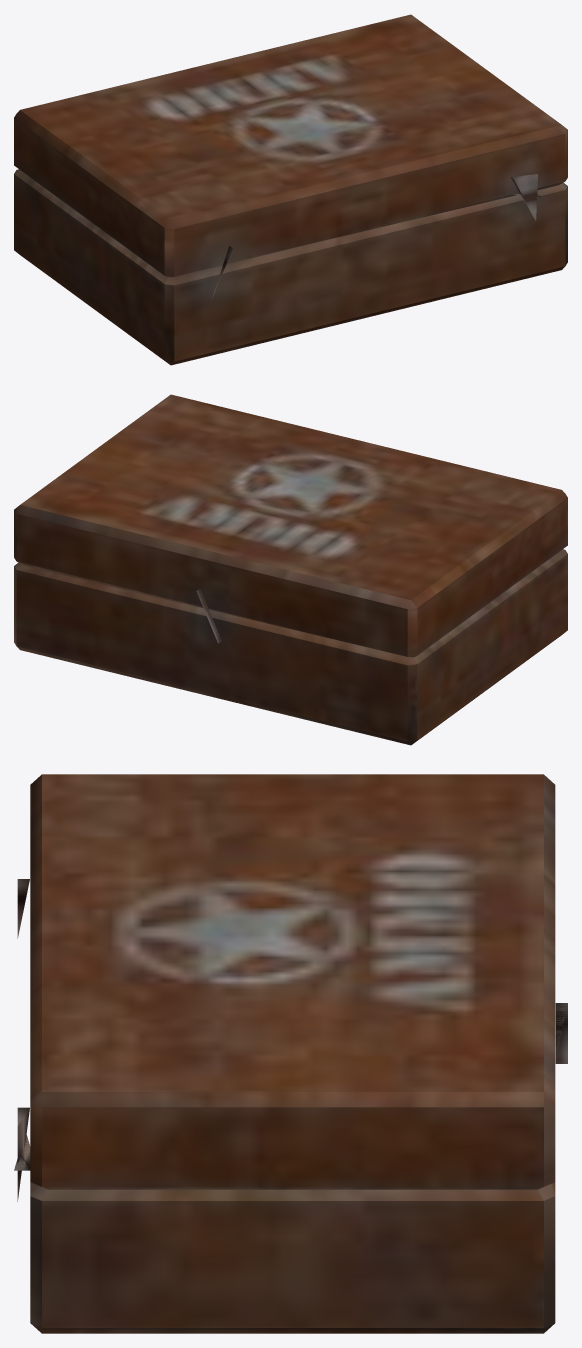
3 views of the same model, one above another, from view 1: azimuth 30°, elevation 25°; view 2: azimuth 150°, elevation 25°; view 3: azimuth 270°, elevation 25° (orthographic). The views are drawn at different scales.
Visible parts, largest first — view 1: ammobox; view 2: ammobox; view 3: ammobox.
Part boxes in pixels (x1,y1,x2,y2): ammobox: [14, 14, 567, 365]; ammobox: [14, 394, 567, 745]; ammobox: [14, 774, 567, 1333].
Bounding box in the file's own units: 0.8716 × 0.3 × 0.6233.
Materials: 1 (1 with a texture image).
